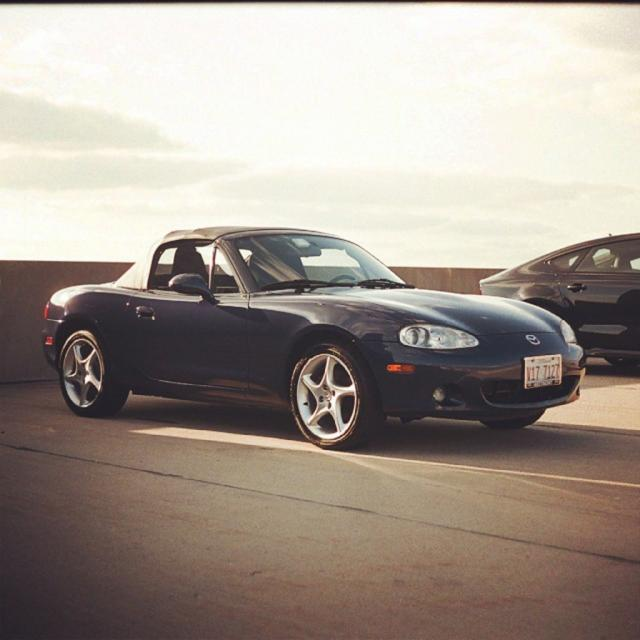car: (38, 224, 588, 456)
